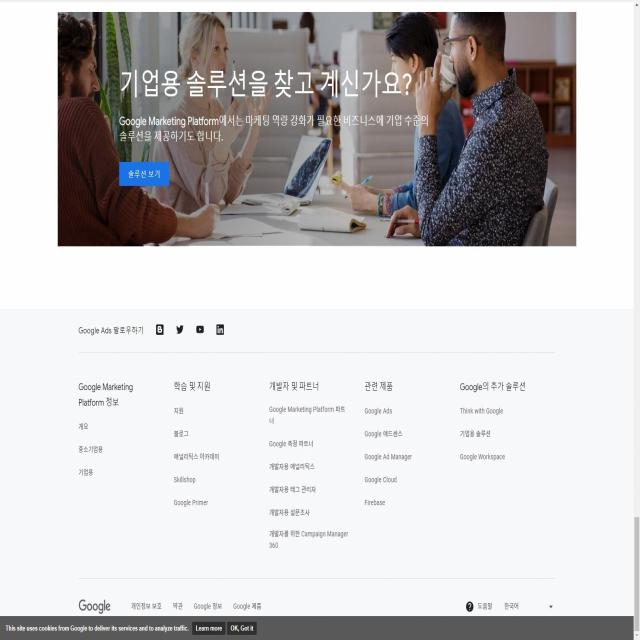button: (118, 161, 170, 186), (192, 621, 225, 635)
